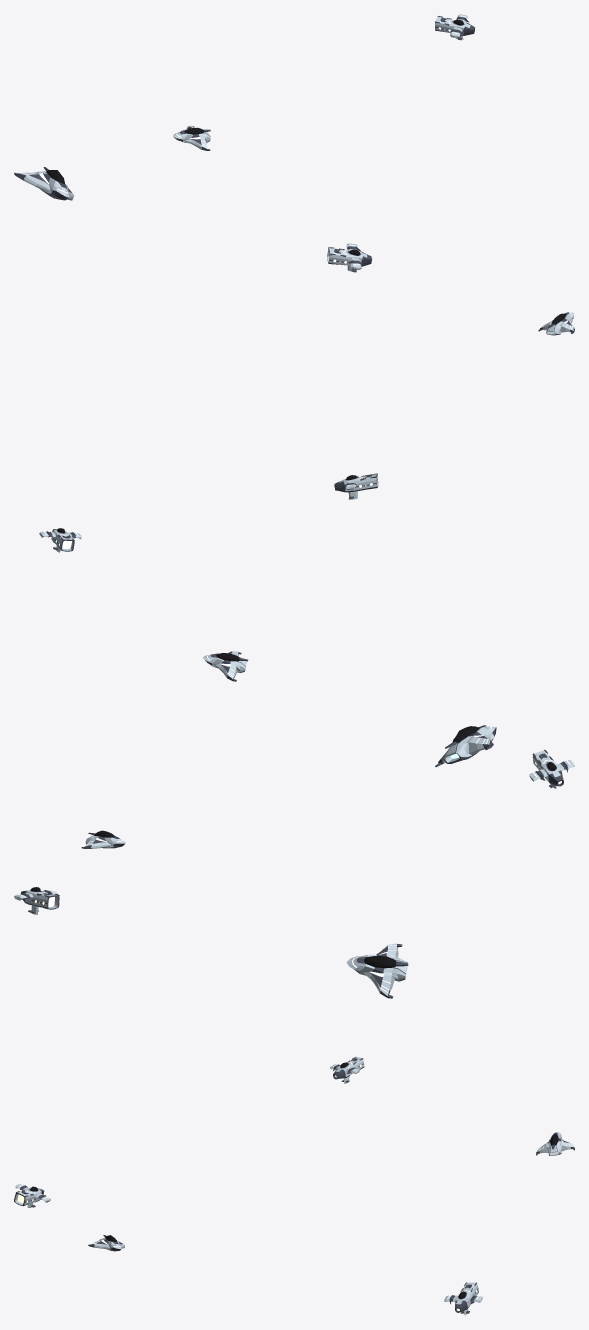
3 views of the same model, one above another, from view 1: azimuth 30°, elevation 25°; view 2: azimuth 150°, elevation 25°; view 3: azimuth 270°, elevation 25° (orthographic). The views are drawn at different scales.
Visible parts, largest first — view 1: BlueShip.005, YellowCraft.002, YellowCraft.003, BlueCraft.002; view 2: BlueShip.005, YellowCraft.003, BlueShip.003, YellowCraft.002, BlueCraft.002, BlueShip.002; view 3: BlueShip.005, YellowCraft.002, YellowCraft.003, BlueCraft.002, BlueShip.002.
Part boxes in pixels (x1,y1,x2,y2): BlueShip.005: (14, 167, 74, 200); YellowCraft.002: (327, 243, 372, 272); YellowCraft.003: (334, 473, 378, 499); BlueCraft.002: (435, 14, 474, 40); BlueShip.005: (435, 725, 496, 766); YellowCraft.003: (529, 749, 574, 788); BlueShip.003: (203, 651, 248, 681); YellowCraft.002: (14, 887, 59, 914); BlueCraft.002: (39, 528, 81, 552); BlueShip.002: (81, 830, 125, 848); BlueShip.005: (346, 943, 408, 998); YellowCraft.002: (444, 1282, 482, 1315); YellowCraft.003: (14, 1184, 50, 1207); BlueCraft.002: (330, 1057, 364, 1083); BlueShip.002: (536, 1132, 574, 1155).
Size of the model in its own units: 8.4 by 5.42 by 10.2.
